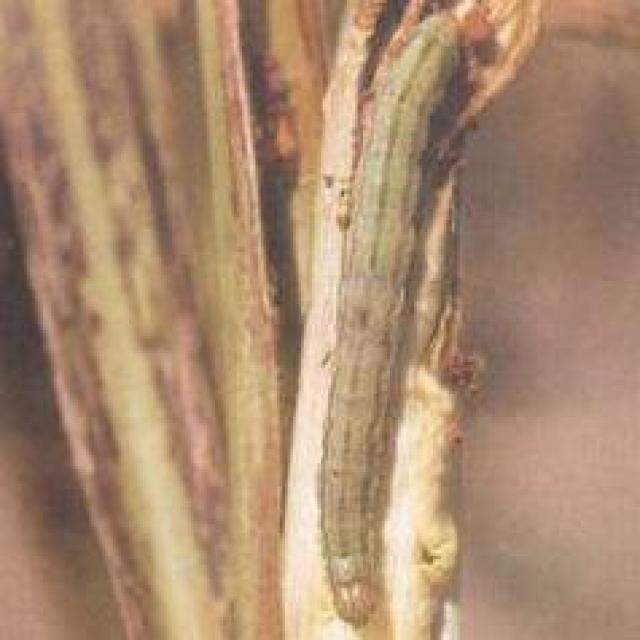BeetArmyWorm-Larva-: (301, 5, 474, 636)
